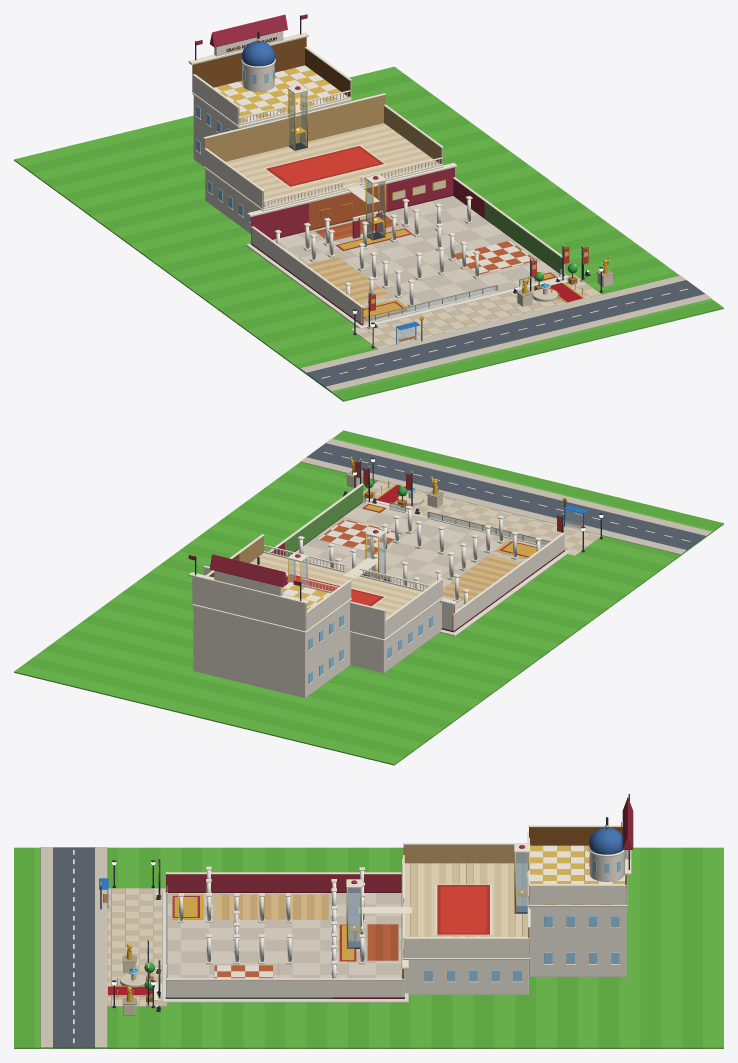
Rendered from shell.glb.
The picture shows the model from 3 angles, top to bottom: view 1: azimuth 30°, elevation 25°; view 2: azimuth 150°, elevation 25°; view 3: azimuth 270°, elevation 25°; orthographic projection. The views are drawn at different scales.
Parts seen in each view (by area): view 1: grounds, building, floor_hall_of_antiquities, floor_sculpture_terrace, crown, lift_hall_of_antiquities, grand_2, lift_sculpture_terrace, dome, grand_4; view 2: grounds, building, floor_sculpture_terrace, floor_hall_of_antiquities, crown, lift_hall_of_antiquities, grand_2, grand_4; view 3: grounds, building, floor_hall_of_antiquities, floor_sculpture_terrace, crown, lift_hall_of_antiquities, lift_sculpture_terrace, dome, grand_2, grand_4, grand_3.
Part boxes in pixels (left/top/right/bottom): grounds: left=14, top=66, right=723, bottom=401; building: left=246, top=167, right=568, bottom=328; floor_hall_of_antiquities: left=203, top=93, right=443, bottom=233; floor_sculpture_terrace: left=192, top=37, right=351, bottom=166; crown: left=188, top=14, right=456, bottom=217; lift_hall_of_antiquities: left=343, top=174, right=386, bottom=240; grand_2: left=367, top=244, right=588, bottom=328; lift_sculpture_terrace: left=285, top=84, right=308, bottom=150; dome: left=241, top=41, right=275, bottom=66; grand_4: left=516, top=256, right=613, bottom=306; grounds: left=14, top=430, right=723, bottom=765; building: left=268, top=483, right=569, bottom=636; floor_sculpture_terrace: left=192, top=552, right=351, bottom=697; floor_hall_of_antiquities: left=203, top=534, right=443, bottom=673; crown: left=188, top=554, right=456, bottom=605; lift_hall_of_antiquities: left=343, top=528, right=386, bottom=579; grand_2: left=354, top=458, right=565, bottom=549; grand_4: left=346, top=456, right=443, bottom=507; grounds: left=14, top=847, right=723, bottom=1048; building: left=154, top=866, right=408, bottom=1002; floor_hall_of_antiquities: left=402, top=831, right=530, bottom=994; floor_sculpture_terrace: left=528, top=825, right=627, bottom=976; crown: left=401, top=794, right=633, bottom=969; lift_hall_of_antiquities: left=346, top=879, right=411, bottom=948; lift_sculpture_terrace: left=514, top=844, right=537, bottom=913; dome: left=589, top=827, right=622, bottom=854; grand_2: left=144, top=857, right=161, bottom=1006; grand_4: left=122, top=944, right=136, bottom=1015; grand_3: left=108, top=893, right=161, bottom=1011.
Bounding box in the file's own units: 34 × 10.53 × 51.
